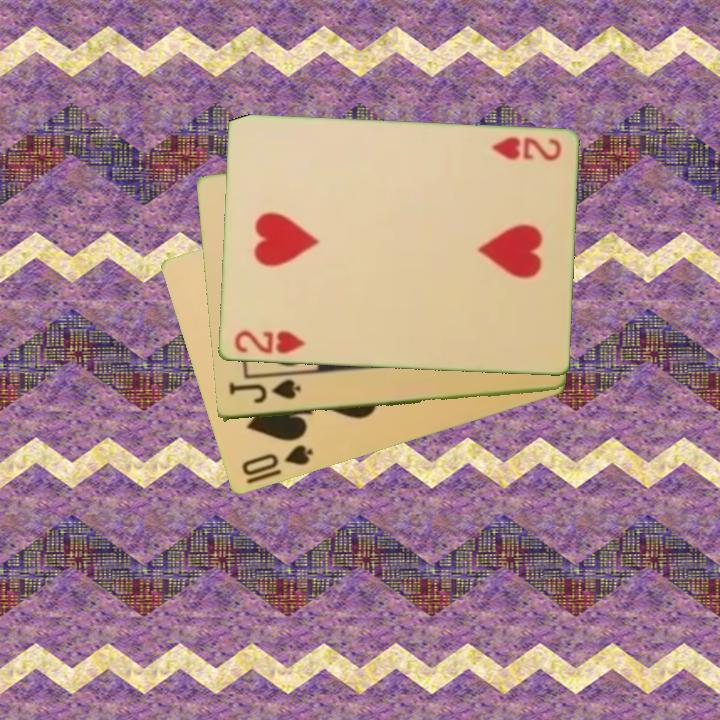10s: (238, 442, 316, 479)
2h: (231, 327, 307, 357), (488, 134, 564, 164)
Js: (225, 377, 303, 407)
